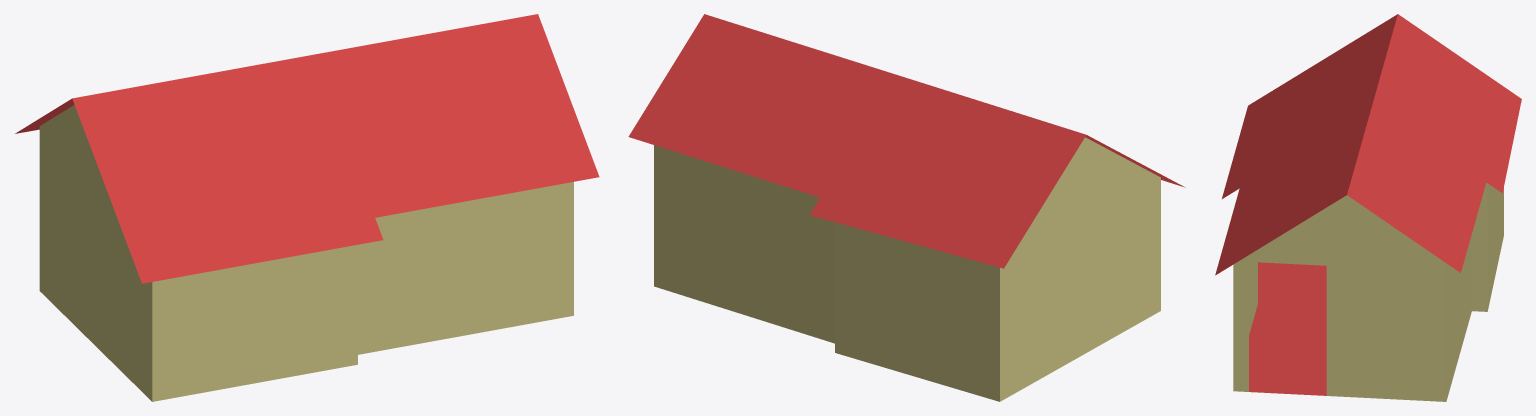
The picture shows the model from 3 angles, left to right: view 1: azimuth 30°, elevation 25°; view 2: azimuth 150°, elevation 25°; view 3: azimuth 270°, elevation 25°; orthographic projection. The views are drawn at different scales.
Size of the model in its own units: 27.88 by 18.61 by 13.98.
